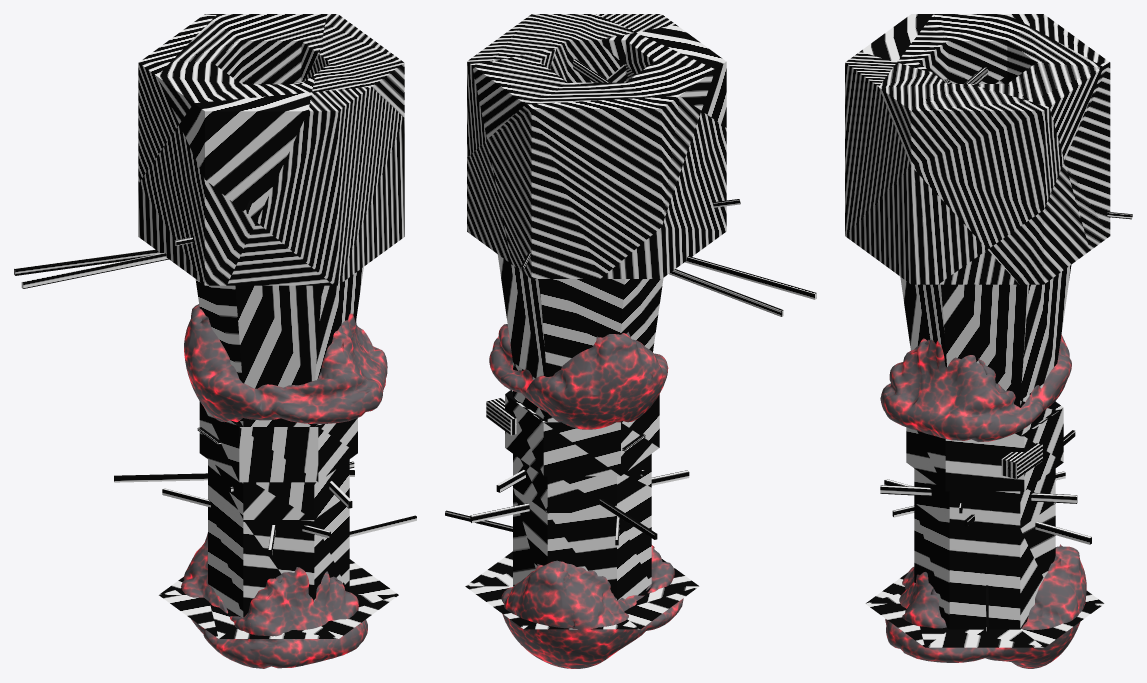
File: collision-world-01.glb
3 views of the same model, side by side, from view 1: azimuth 30°, elevation 25°; view 2: azimuth 150°, elevation 25°; view 3: azimuth 270°, elevation 25° (orthographic). The views are drawn at different scales.
Visible parts, largest first — view 1: Cylinder.011, Cylinder.009, mouth.003, mouth.001, beam.002, Cube.134, Cube.130, Cube.131; view 2: Cylinder.011, Cylinder.009, mouth.001, mouth.003, beam.002, Cube.134, Cube.132, Cube.151; view 3: Cylinder.011, Cylinder.009, mouth.003, mouth.001, Cube.151, Cube.127, Cube.132.
Part boxes in pixels (x1=…): Cylinder.011: x1=138, y1=14, x2=404, y2=285; Cylinder.009: x1=159, y1=267, x2=398, y2=638; mouth.003: x1=184, y1=304, x2=387, y2=423; mouth.001: x1=181, y1=533, x2=367, y2=668; beam.002: x1=21, y1=253, x2=168, y2=288; Cube.134: x1=14, y1=249, x2=160, y2=275; Cube.130: x1=114, y1=470, x2=354, y2=482; Cube.131: x1=162, y1=488, x2=330, y2=537; Cylinder.011: x1=467, y1=14, x2=726, y2=278; Cylinder.009: x1=465, y1=254, x2=699, y2=629; mouth.001: x1=501, y1=545, x2=683, y2=668; mouth.003: x1=489, y1=324, x2=668, y2=429; beam.002: x1=685, y1=256, x2=816, y2=299; Cube.134: x1=669, y1=269, x2=783, y2=316; Cube.132: x1=470, y1=470, x2=689, y2=522; Cube.151: x1=486, y1=398, x2=516, y2=435; Cylinder.011: x1=845, y1=14, x2=1110, y2=284; Cylinder.009: x1=865, y1=265, x2=1104, y2=647; mouth.003: x1=880, y1=334, x2=1071, y2=441; mouth.001: x1=885, y1=544, x2=1086, y2=668; Cube.151: x1=1001, y1=443, x2=1042, y2=478; Cube.127: x1=880, y1=485, x2=1077, y2=503; Cube.132: x1=884, y1=479, x2=1091, y2=544.
Bounding box in the file's own units: 39.38 × 58.45 × 25.49.
3 materials, 1 textured.
